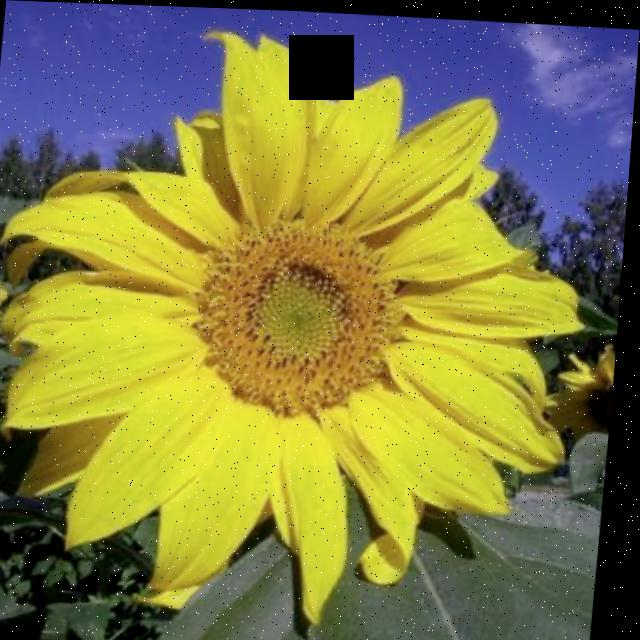sunflower: (0, 1, 624, 633)
